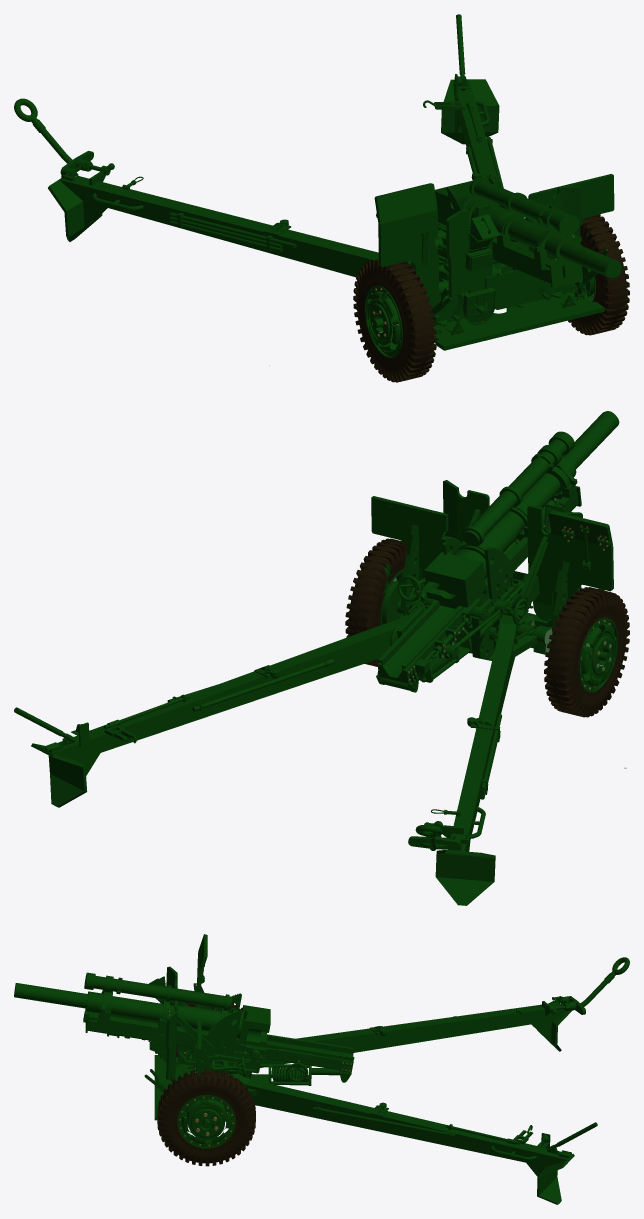
3 renders of one model, top to bottom at view 1: azimuth 30°, elevation 25°; view 2: azimuth 150°, elevation 25°; view 3: azimuth 270°, elevation 25°, orthographic. The views are drawn at different scales.
Parts seen in each view (by area): view 1: _05mmso231, sayapUtama, Laras, _05mmne227, sayapDepan, _05mmso129, _05mmne125, _05mmisc19, basis_laras, _05mmll223, _05mmis117, _05mmeje13 (+1 smaller); view 2: _05mmso129, Laras, basis_laras, _05mmso231, sayapUtama, _05mmne227, sayapDepan, _05mmne125, _05mmisc19, _05mmll223, _05mmeje13, _05mm; view 3: _05mmso129, Laras, basis_laras, _05mmso231, _05mmne125, _05mmll121, _05mmisc19, sayapUtama, sayapDepan.
Boxes of the visible parts, x1,y1,x2,y2 form: _05mmso231: (14,98,448,281); sayapUtama: (374,175,614,350); Laras: (435,175,622,277); _05mmne227: (353,259,436,382); sayapDepan: (446,186,582,309); _05mmso129: (423,14,512,273); _05mmne125: (568,214,629,335); _05mmisc19: (411,214,607,335); basis_laras: (434,176,582,288); _05mmll223: (365,285,402,358); _05mmis117: (463,287,495,324); _05mmeje13: (373,264,594,332); _05mmso129: (14,597,425,807); Laras: (424,411,619,608); basis_laras: (376,486,581,692); _05mmso231: (408,615,537,905); sayapUtama: (371,497,613,627); _05mmne227: (544,587,629,717); sayapDepan: (443,480,582,608); _05mmne125: (345,538,407,666); _05mmisc19: (397,502,604,643); _05mmll223: (579,617,618,692); _05mmeje13: (382,580,609,665); _05mm: (371,496,612,570); _05mmso129: (228,1071,597,1204); Laras: (14,972,270,1047); basis_laras: (83,993,354,1085); _05mmso231: (260,957,629,1067); _05mmne125: (157,1068,255,1166); _05mmll121: (177,1095,235,1148); _05mmisc19: (144,976,248,1127); sayapUtama: (154,934,206,1120); sayapDepan: (166,966,177,1080).
Size of the model in its own units: 586 by 249 by 900.
